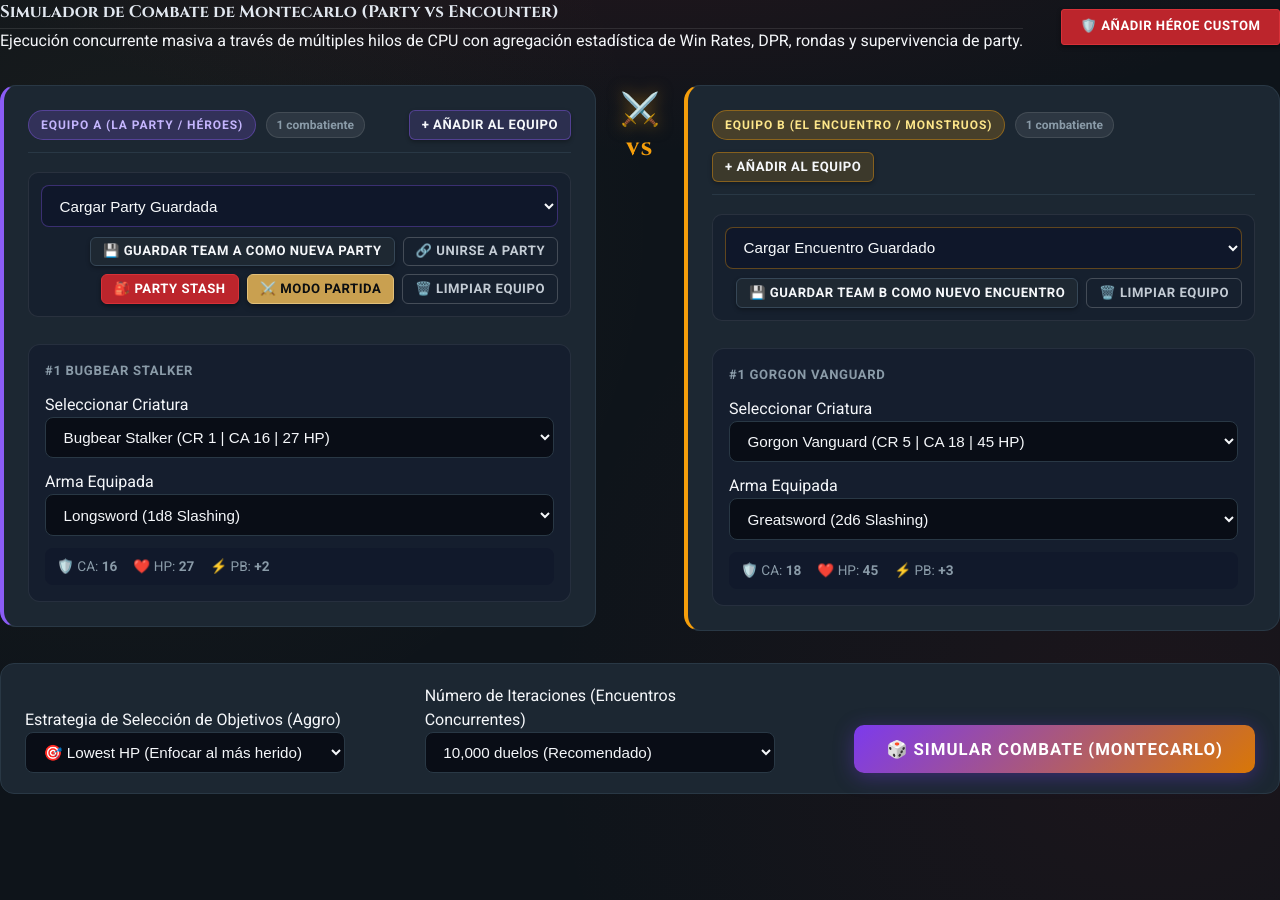
Test: CombatSimulatorView Component Suite (Party vs Encounter) › opens Custom Hero modal when clicking the Añadir Héroe Custom button
Click the button with id "open-custom-hero-btn".
click(1171, 27)  # box top-left (1061, 9), bottom-right (1279, 45)
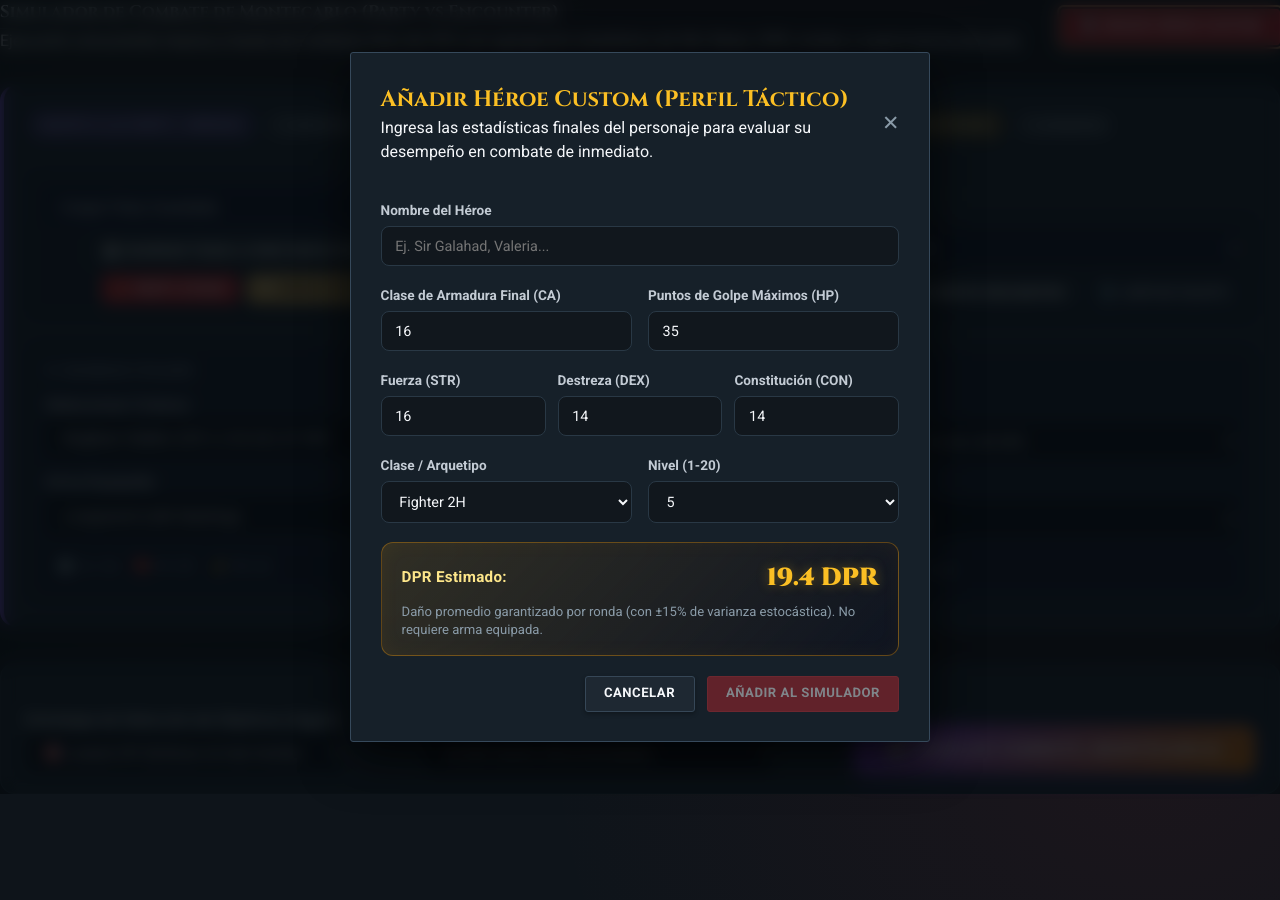
Now the element with id "custom-hero-modal" is shown, box top-left (350, 52), bottom-right (930, 742)
